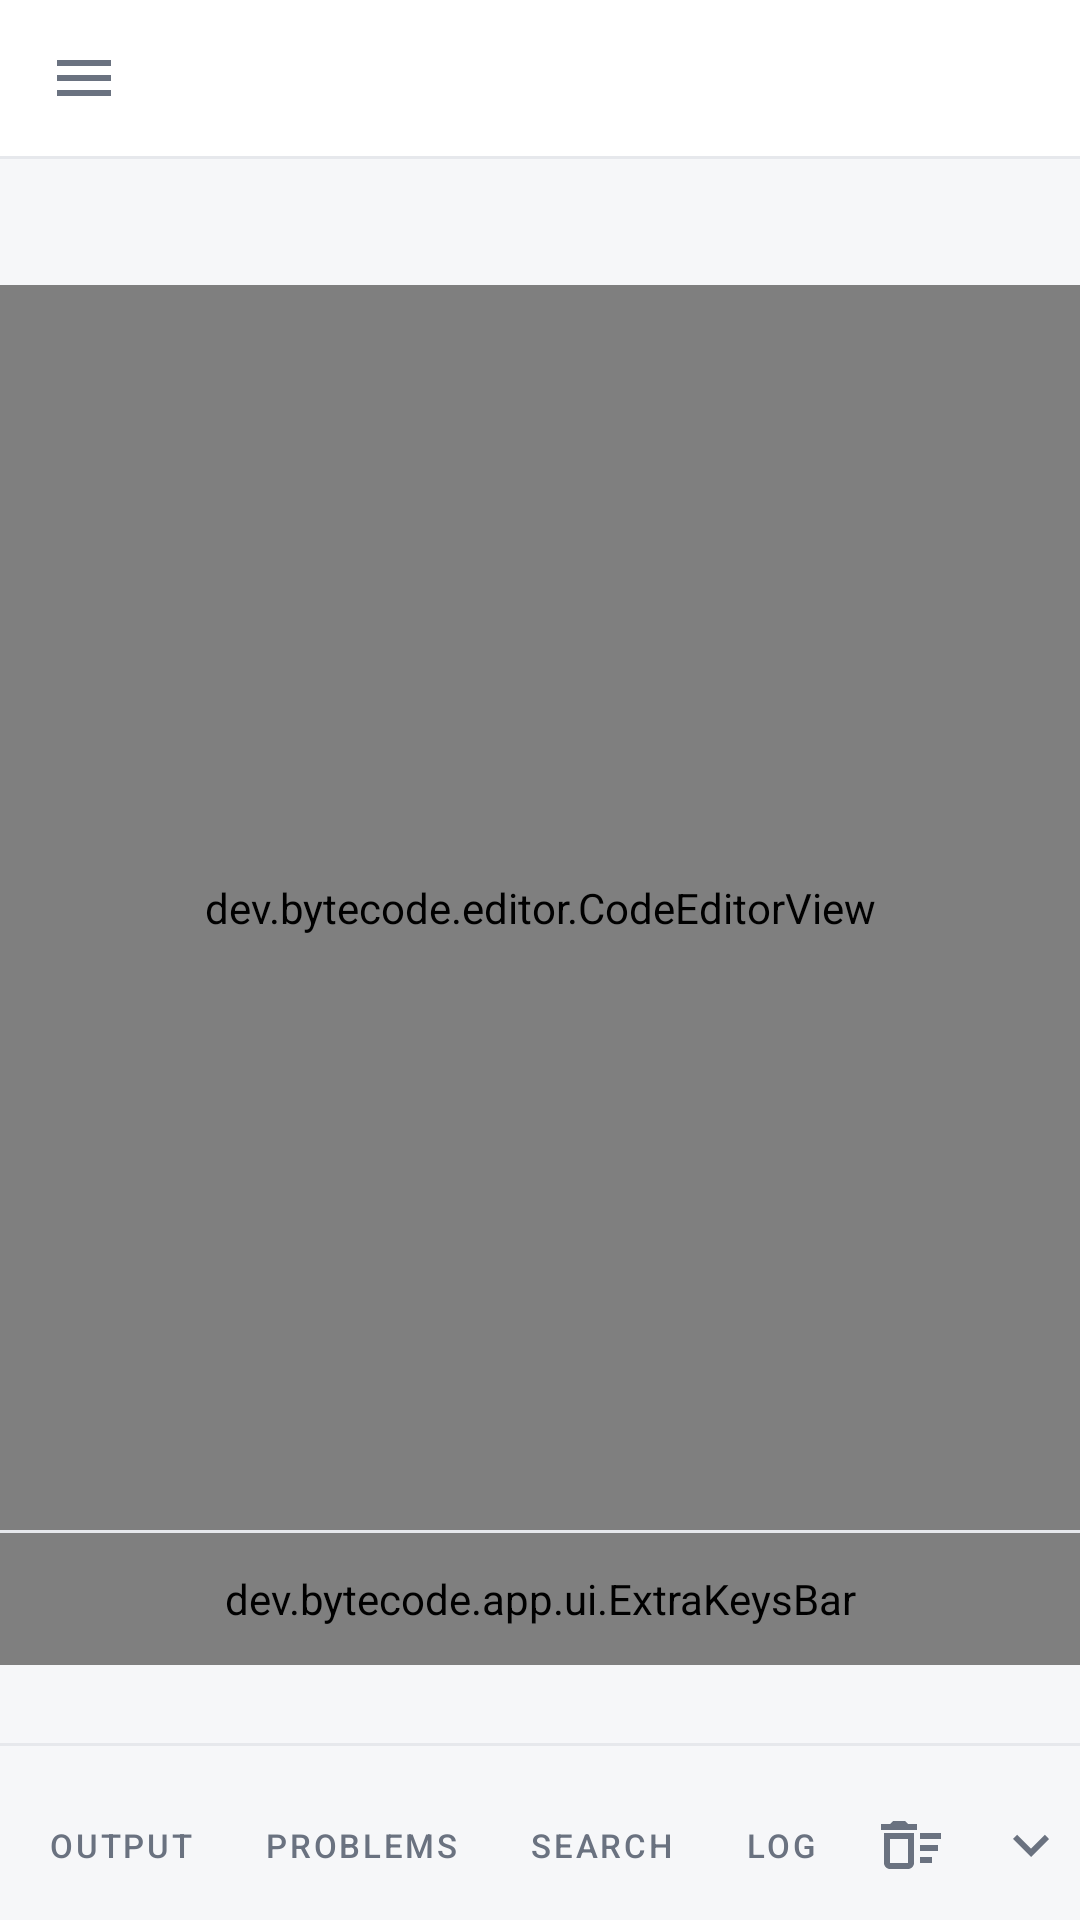

Icons on this 1080×1920 Android screen, each with the point to tap as (x,y):
Clear output: (911,1845)
